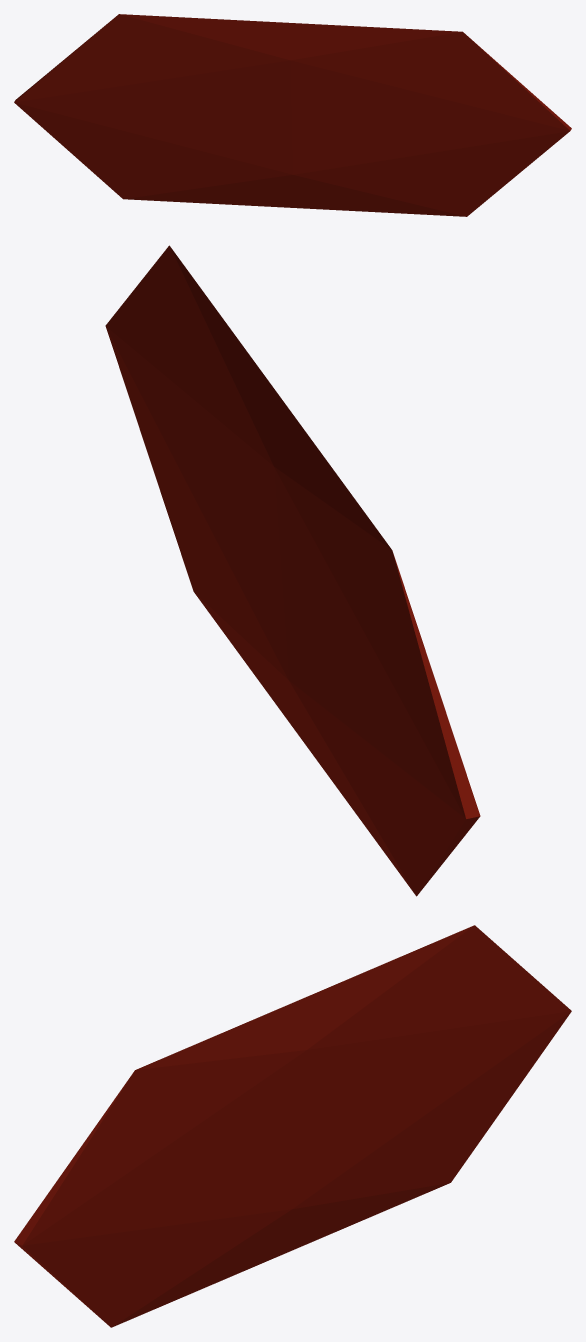
The model's file is Platonic_21.gltf.
3 renders of one model, top to bottom at view 1: azimuth 30°, elevation 25°; view 2: azimuth 150°, elevation 25°; view 3: azimuth 270°, elevation 25°, orthographic. The views are drawn at different scales.
Parts seen in each view (by area): view 1: Platonic_21; view 2: Platonic_21; view 3: Platonic_21.
Boxes of the visible parts, x1=… form: Platonic_21: x1=14, y1=14, x2=571, y2=216; Platonic_21: x1=105, y1=245, x2=480, y2=896; Platonic_21: x1=14, y1=925, x2=571, y2=1327.
Size of the model in its own units: 31.47 by 15.33 by 27.91.
